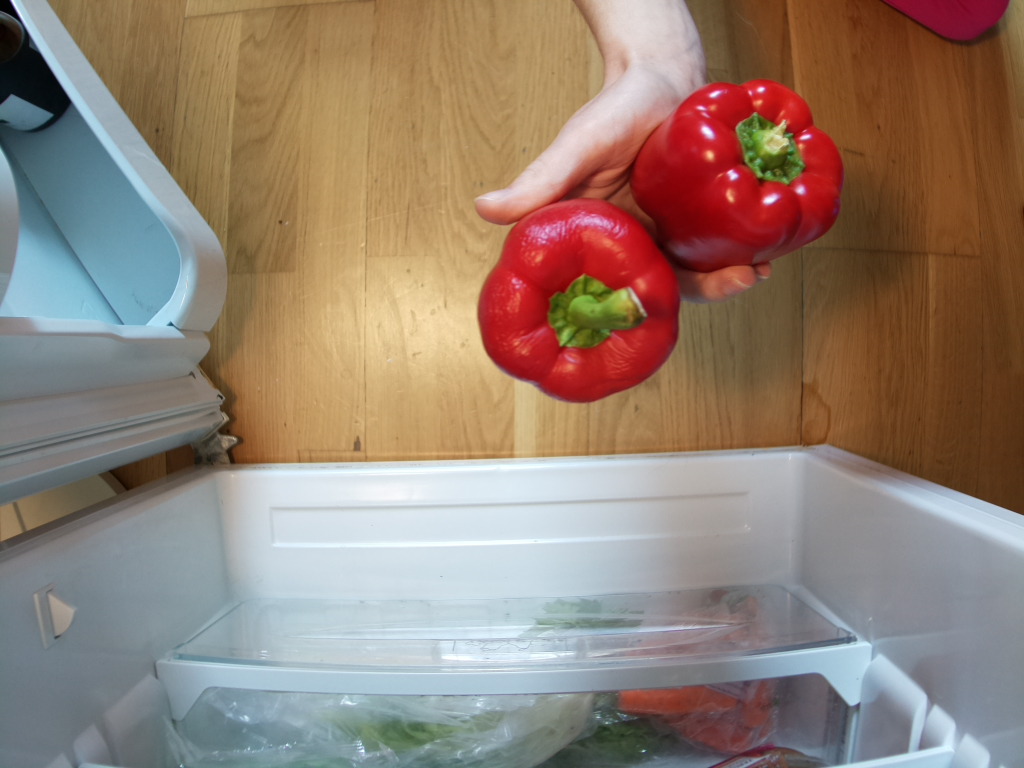pepper: (630, 78, 846, 277)
pepper-bad: (479, 195, 683, 406)
